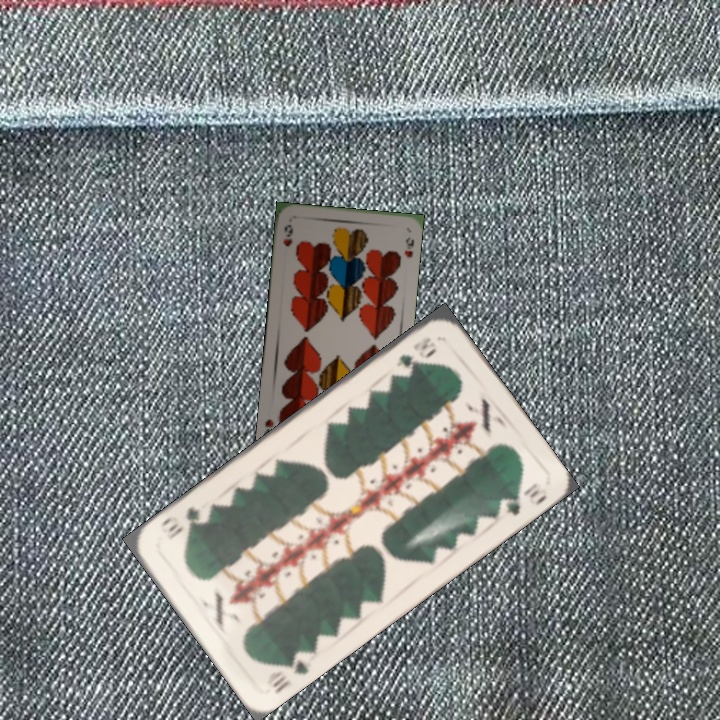G10: (262, 646, 311, 697), (392, 333, 437, 371)
H9: (279, 221, 296, 249)
